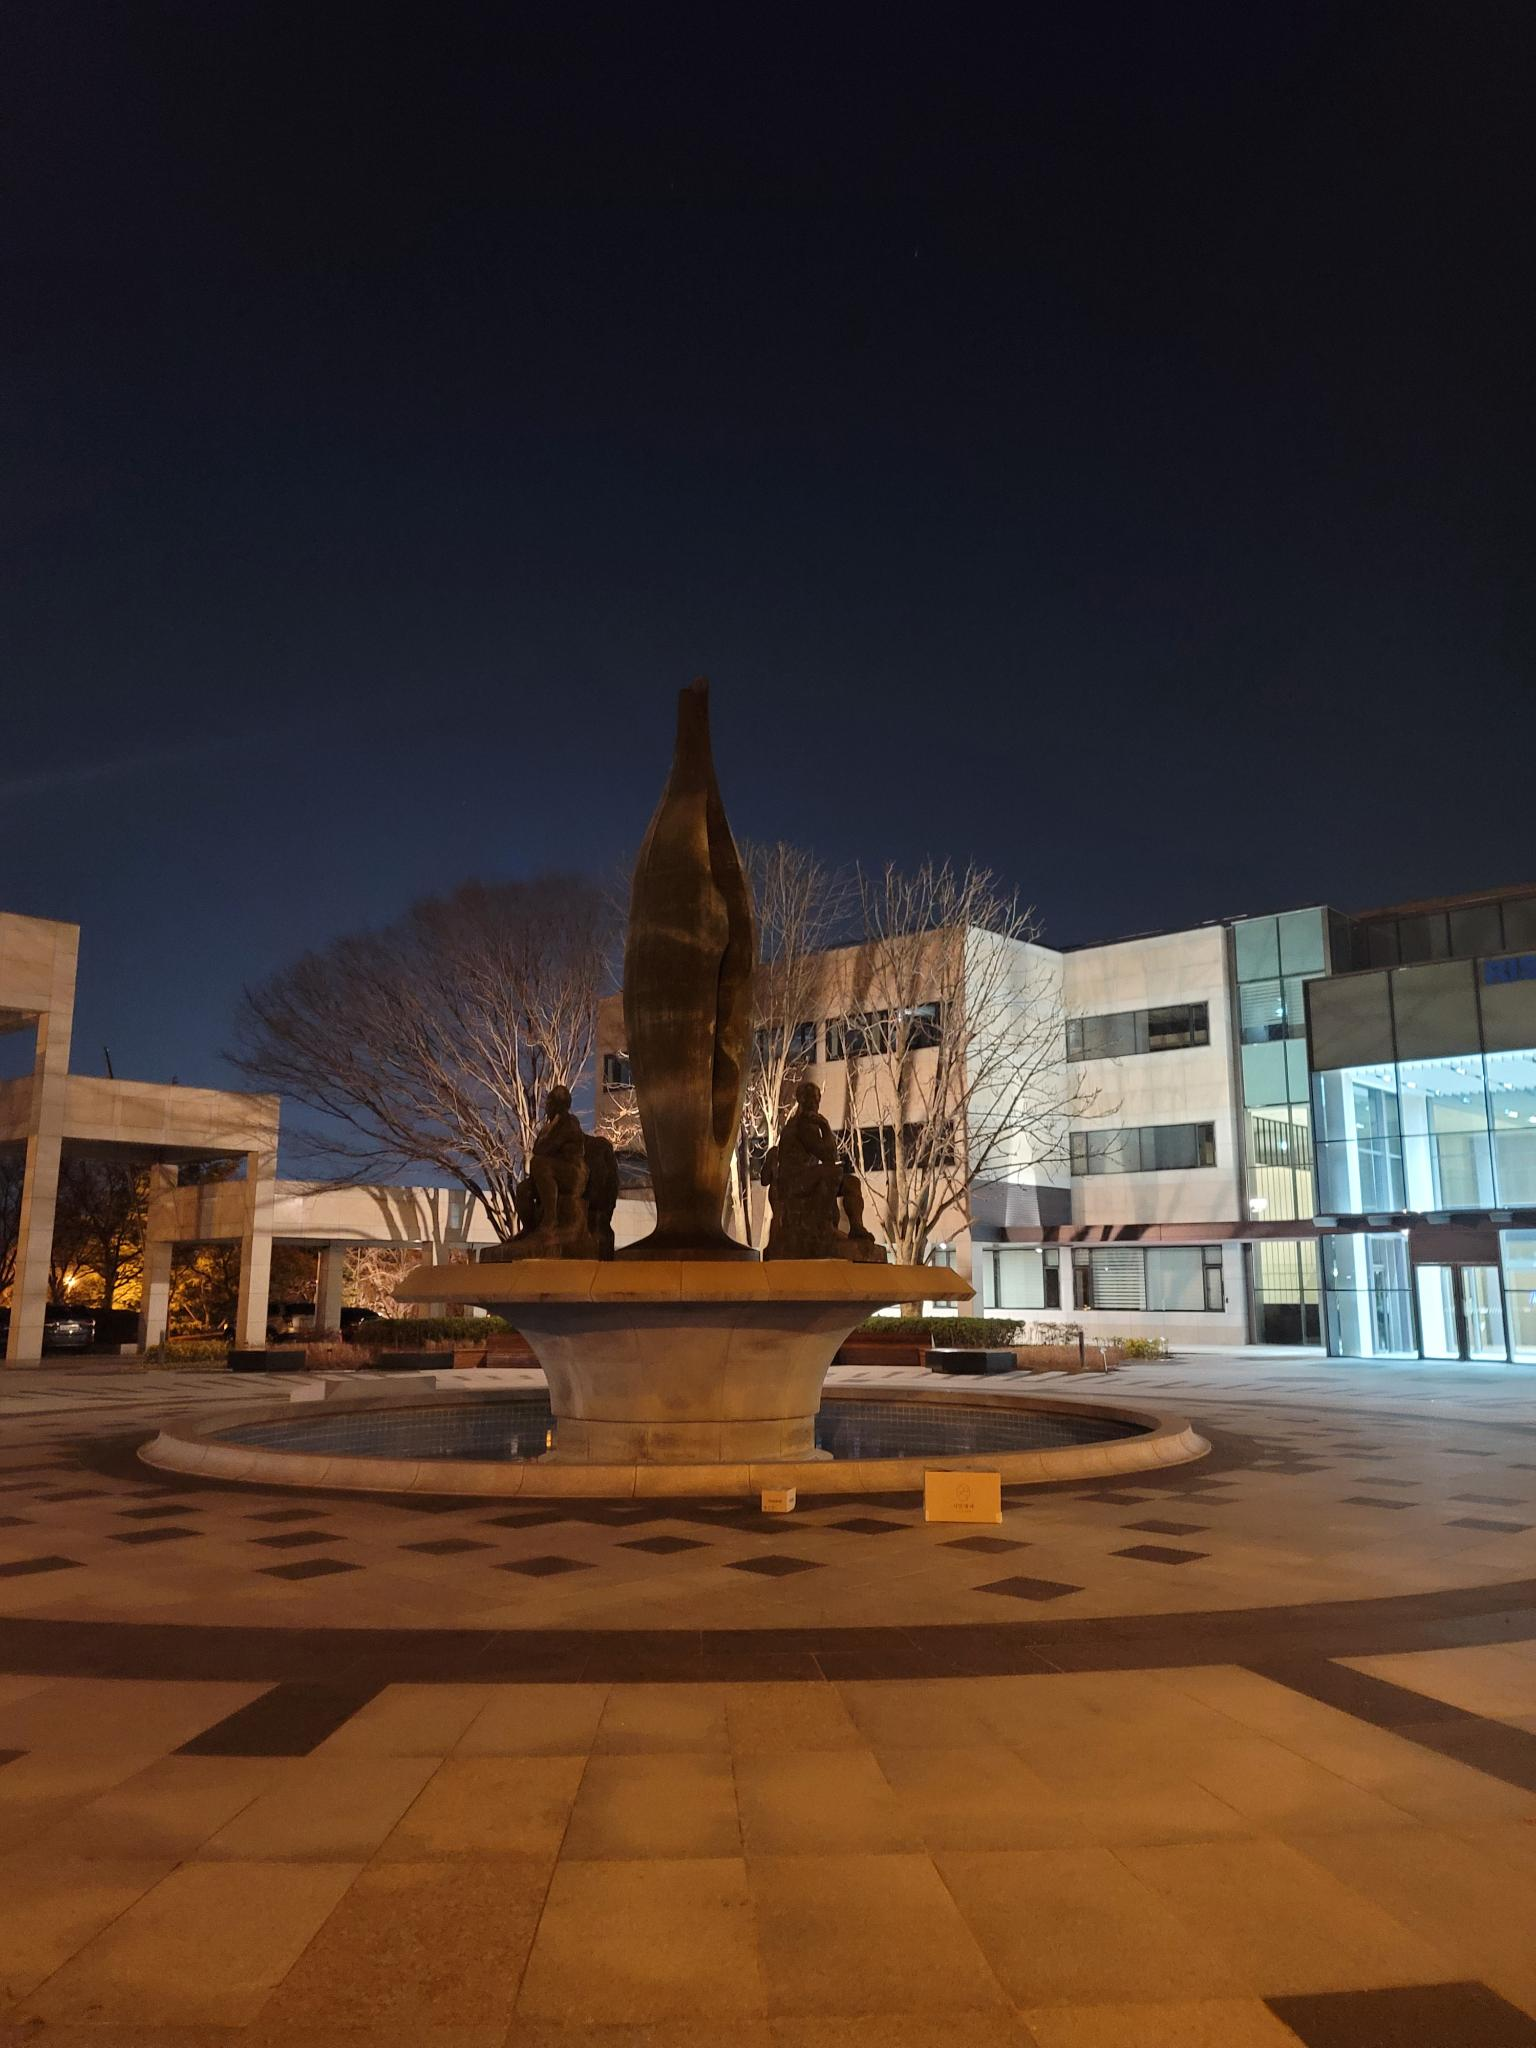Box: (913, 1459, 1023, 1535), (755, 1474, 810, 1517)
